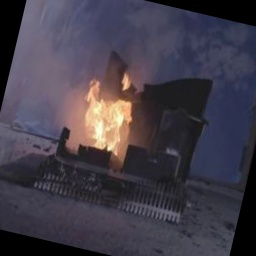fire: (73, 64, 149, 162)
smoke: (10, 0, 111, 89)
